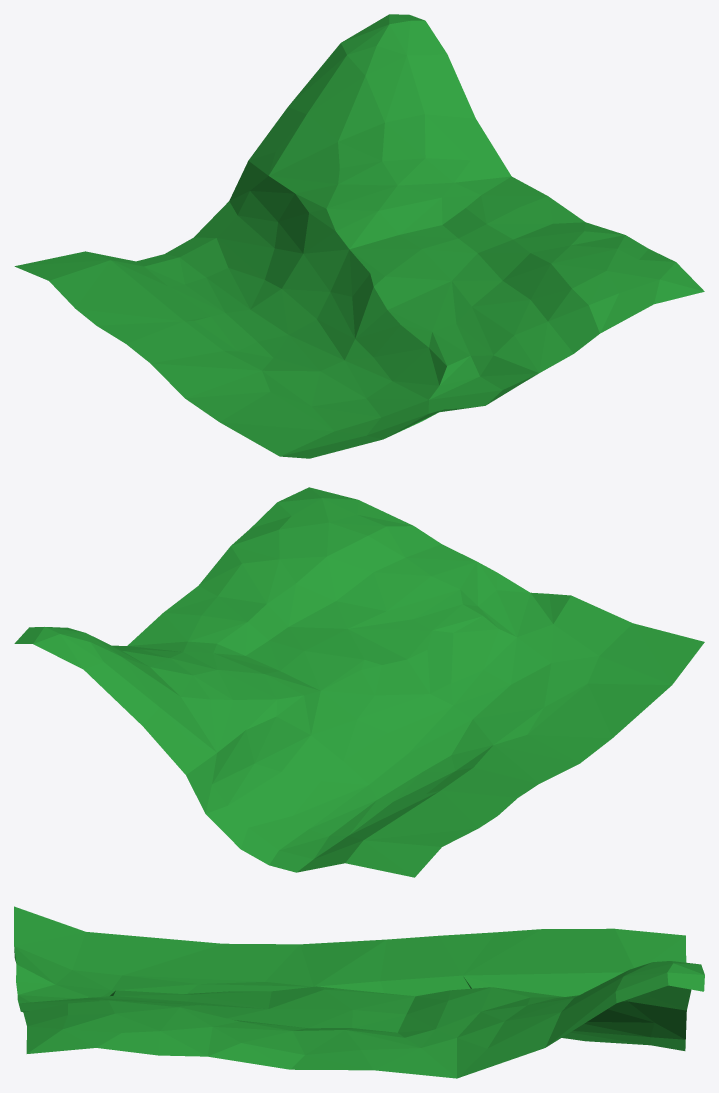
Rendered from Field_L8.fbx.
3 views of the same model, one above another, from view 1: azimuth 30°, elevation 25°; view 2: azimuth 150°, elevation 25°; view 3: azimuth 270°, elevation 25° (orthographic). The views are drawn at different scales.
Parts seen in each view (by area): view 1: L8; view 2: L8; view 3: L8.
Part boxes in pixels (x1,y1,x2,y2): L8: [14, 14, 704, 458]; L8: [14, 487, 704, 877]; L8: [14, 906, 704, 1078].
Bounding box in the file's own units: 2581 × 1103 × 3360.
